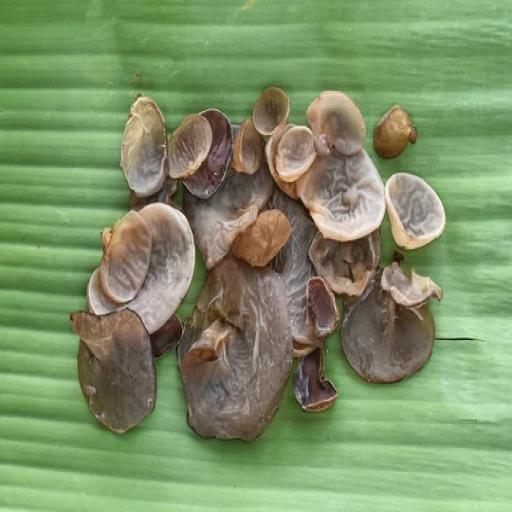Wood Ear Mushroom: (233, 86, 445, 253), (66, 202, 193, 440), (297, 218, 439, 417), (183, 259, 297, 449), (123, 87, 231, 196)
